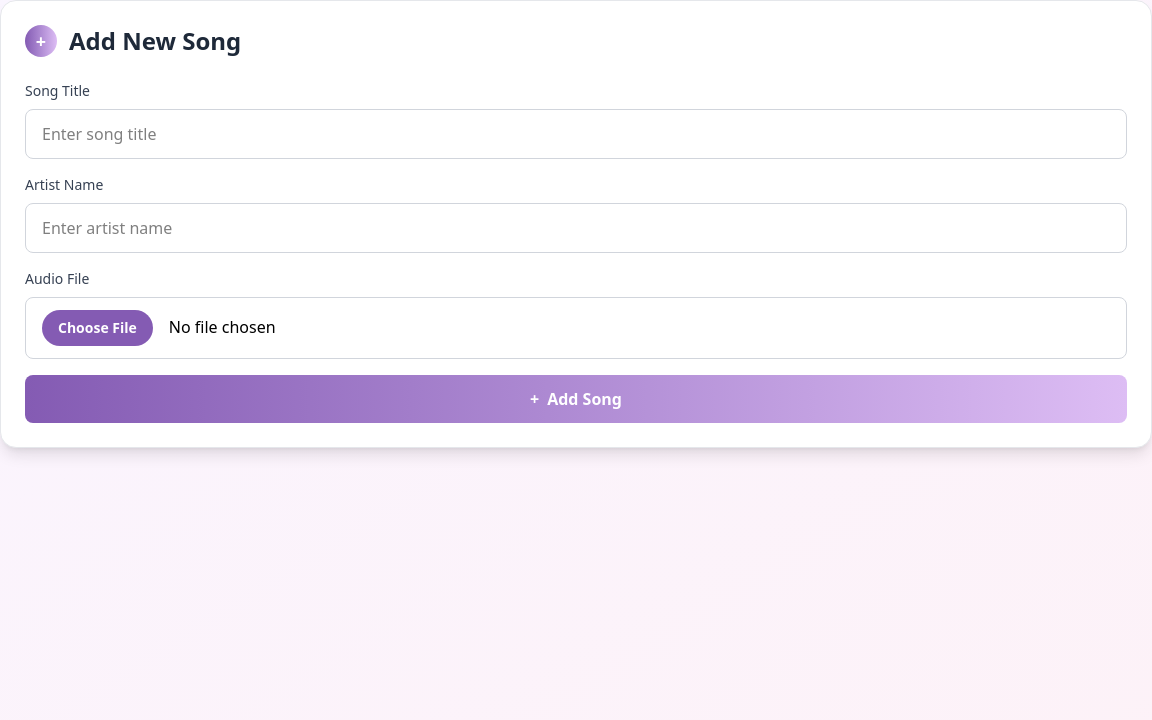
Test: AddSongForm › rejects a submission with missing metadata
What coordinates should you click on to do the following:
click the button "+ Add Song"
I would click on:
 (576, 399)
Its box is [25,375,1127,423].
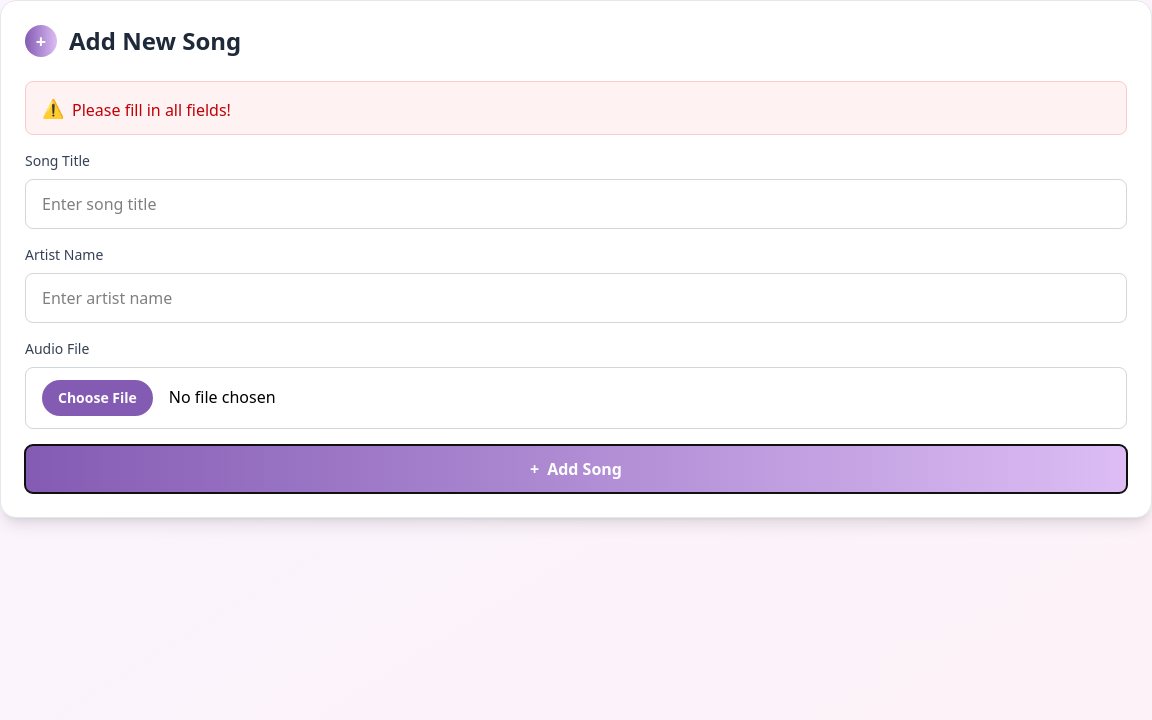
Expected: the text "Please fill in all fields!" is shown, [72,98,231,122]
